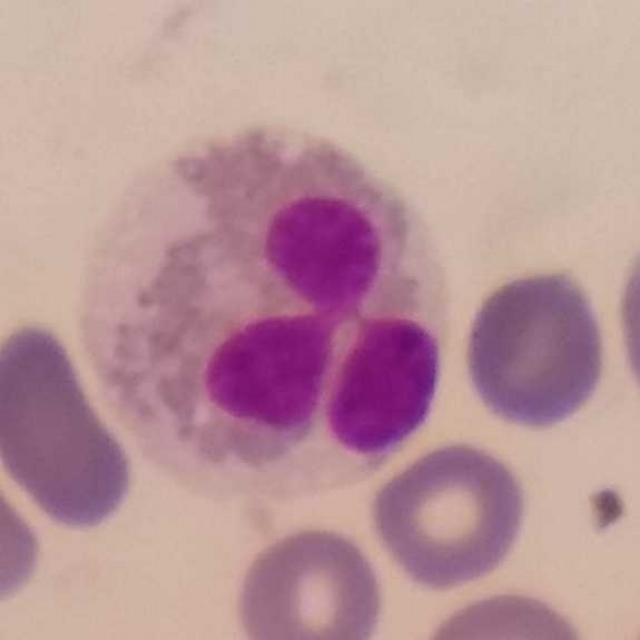Eosinophil: (74, 129, 454, 499)
Platelets: (582, 478, 632, 538)
RBC: (0, 313, 141, 536), (456, 262, 614, 435), (364, 436, 534, 594), (227, 520, 391, 640), (410, 584, 598, 640), (0, 436, 49, 619), (609, 212, 640, 428)
